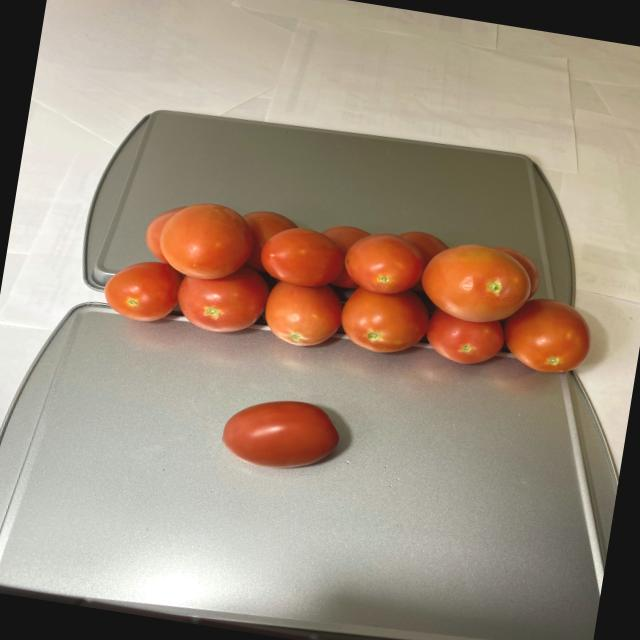tomato: (92, 183, 606, 391), (214, 388, 348, 481)
